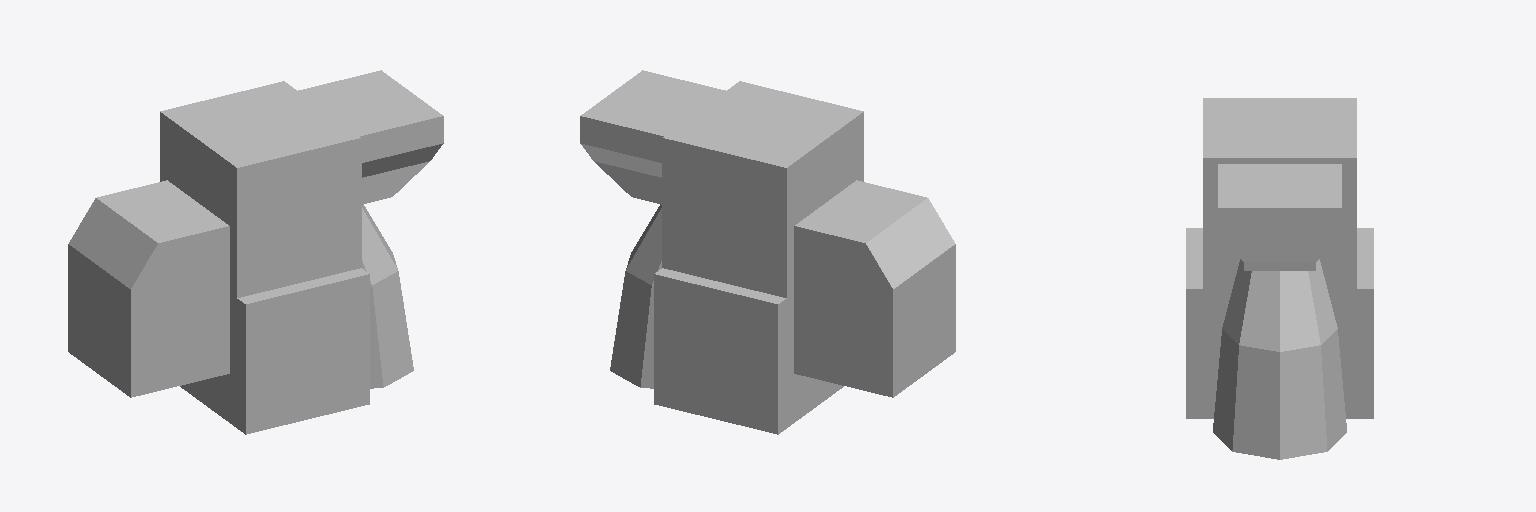
File: Saturn V_3.obj
3 views of the same model, side by side, from view 1: azimuth 30°, elevation 25°; view 2: azimuth 150°, elevation 25°; view 3: azimuth 270°, elevation 25° (orthographic).
Parts seen in each view (by area): view 1: Lunar_Module_Placeholder_Cube.013; view 2: Lunar_Module_Placeholder_Cube.013; view 3: Lunar_Module_Placeholder_Cube.013.
Part boxes in pixels (left/top/right/bottom): Lunar_Module_Placeholder_Cube.013: left=68, top=70, right=443, bottom=434; Lunar_Module_Placeholder_Cube.013: left=580, top=70, right=955, bottom=434; Lunar_Module_Placeholder_Cube.013: left=1186, top=98, right=1373, bottom=459.
Size of the model in its own units: 4.09 by 3.25 by 2.13.